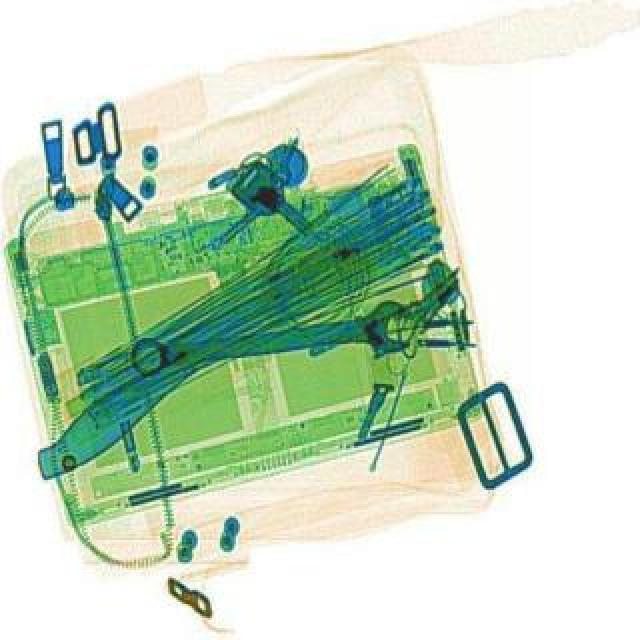knife: (20, 312, 244, 486)
scissors: (124, 294, 414, 384)
